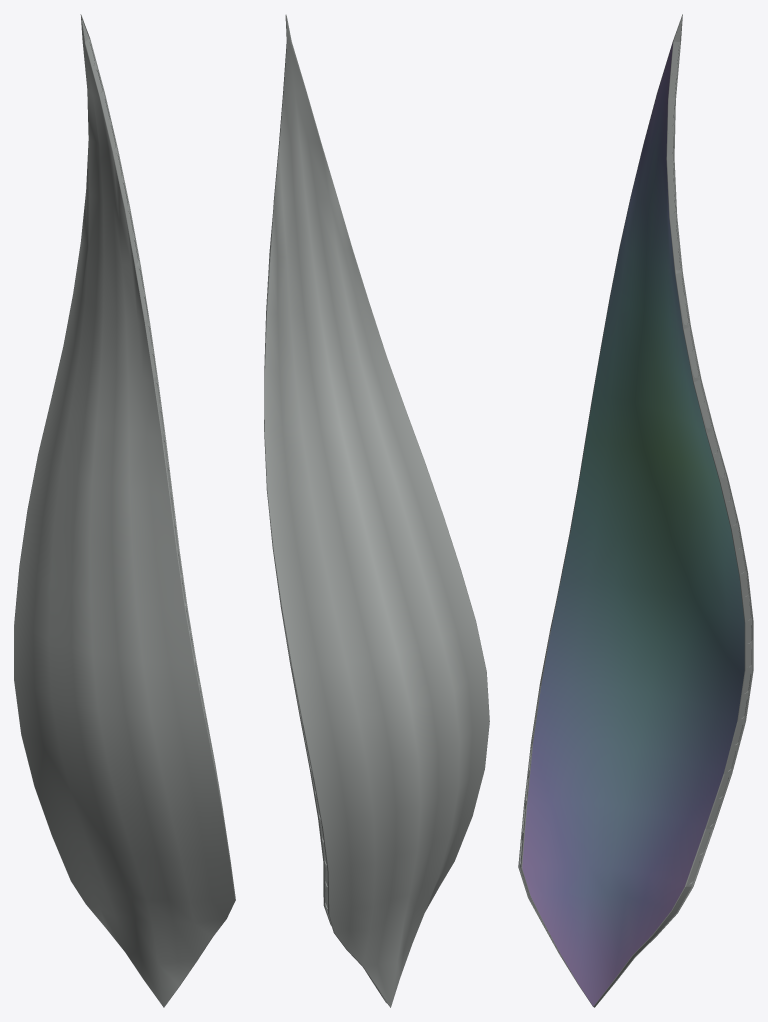
3 renders of one model, left to right at view 1: azimuth 90°, elevation 25°; view 2: azimuth 150°, elevation 25°; view 3: azimuth 270°, elevation 25°, orthographic. The views are drawn at different scales.
Parts seen in each view (by area): view 1: G:\FFXIV-MapTools\exports\d2f3\bg\ex1\02_dra_d2\fld\d2f3\bgp (×2); view 2: G:\FFXIV-MapTools\exports\d2f3\bg\ex1\02_dra_d2\fld\d2f3\bgp (×2); view 3: G:\FFXIV-MapTools\exports\d2f3\bg\ex1\02_dra_d2\fld\d2f3\bgp (×2).
Part boxes in pixels (x1,y1,x2,y2): G:\FFXIV-MapTools\exports\d2f3\bg\ex1\02_dra_d2\fld\d2f3\bgp (×2): (14,14,235,1007); G:\FFXIV-MapTools\exports\d2f3\bg\ex1\02_dra_d2\fld\d2f3\bgp (×2): (264,14,489,1007); G:\FFXIV-MapTools\exports\d2f3\bg\ex1\02_dra_d2\fld\d2f3\bgp (×2): (518,14,753,1007).
Bounding box in the file's own units: 152 × 941 × 196.
